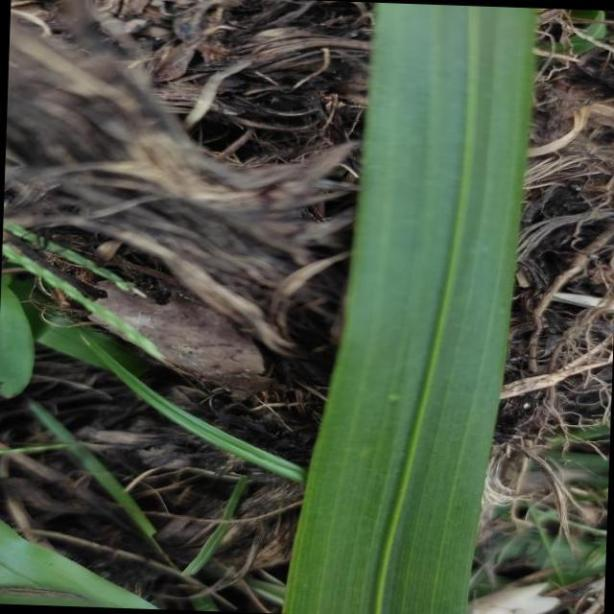Healthy: (284, 0, 536, 614)
